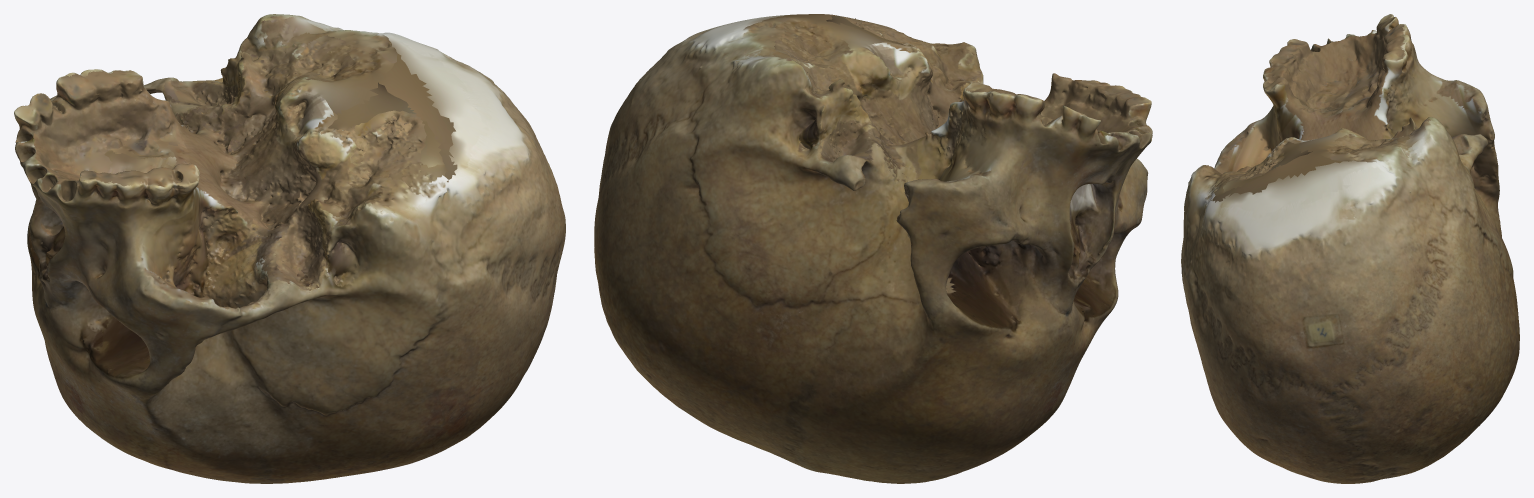
Rendered from Pip_final.obj.
3 renders of one model, left to right at view 1: azimuth 30°, elevation 25°; view 2: azimuth 150°, elevation 25°; view 3: azimuth 270°, elevation 25°, orthographic. The views are drawn at different scales.
Bounding box in the file's own units: 4.73 × 3.7 × 3.28.
2 materials, 2 textured.
